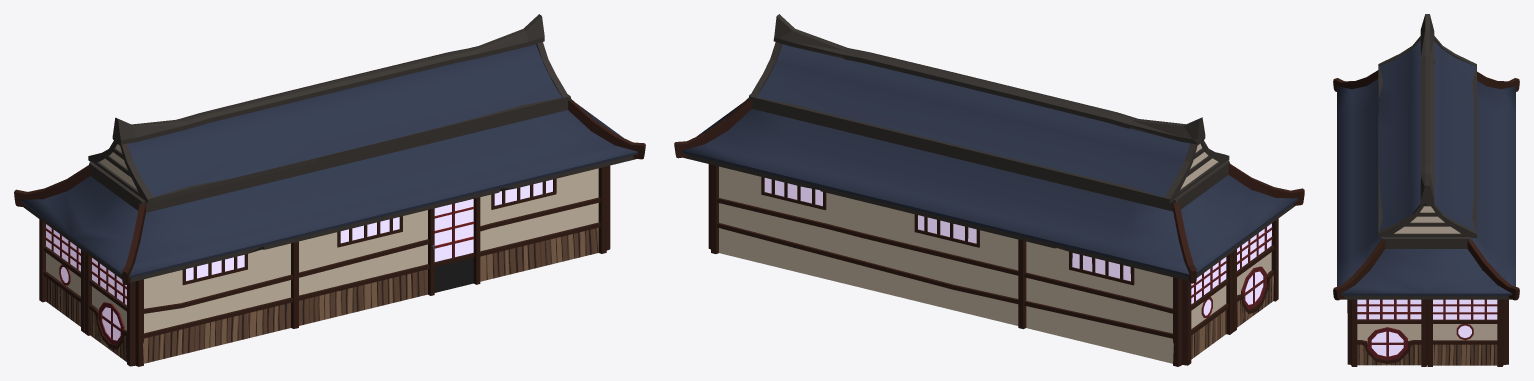
The model's file is Building_3 Asia.fbx.
3 renders of one model, left to right at view 1: azimuth 30°, elevation 25°; view 2: azimuth 150°, elevation 25°; view 3: azimuth 270°, elevation 25°, orthographic. The views are drawn at different scales.
Parts seen in each view (by area): view 1: Building_3; view 2: Building_3; view 3: Building_3.
Part boxes in pixels (x1,y1,x2,y2): Building_3: (14,14,645,366); Building_3: (674,14,1304,366); Building_3: (1333,14,1519,366).
Size of the model in its own units: 11.81 by 4.46 by 4.4.
